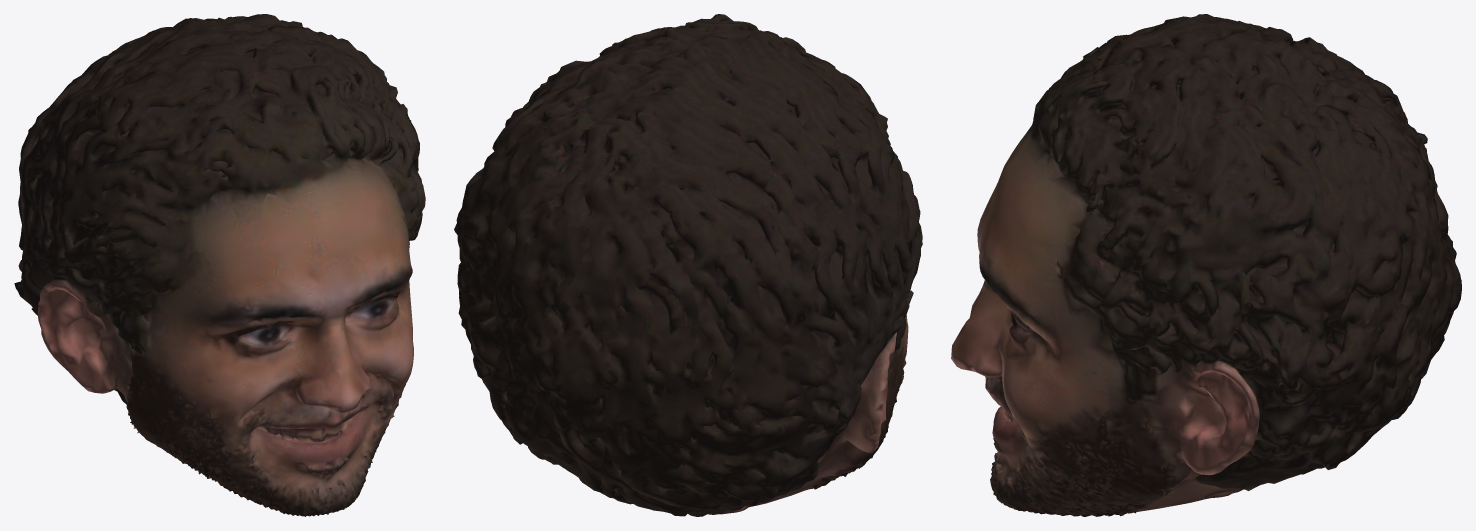
Rendered from head_mo.glb.
The picture shows the model from 3 angles, left to right: view 1: azimuth 30°, elevation 25°; view 2: azimuth 150°, elevation 25°; view 3: azimuth 270°, elevation 25°; orthographic projection. The views are drawn at different scales.
Parts seen in each view (by area): view 1: Mo; view 2: Mo; view 3: Mo.
Boxes of the visible parts, x1,y1,x2,y2 form: Mo: (14,14,425,516); Mo: (454,14,922,516); Mo: (951,14,1461,516).
Bounding box in the file's own units: 0.2319 × 0.2502 × 0.2546.
Materials: 1 (1 with a texture image).
